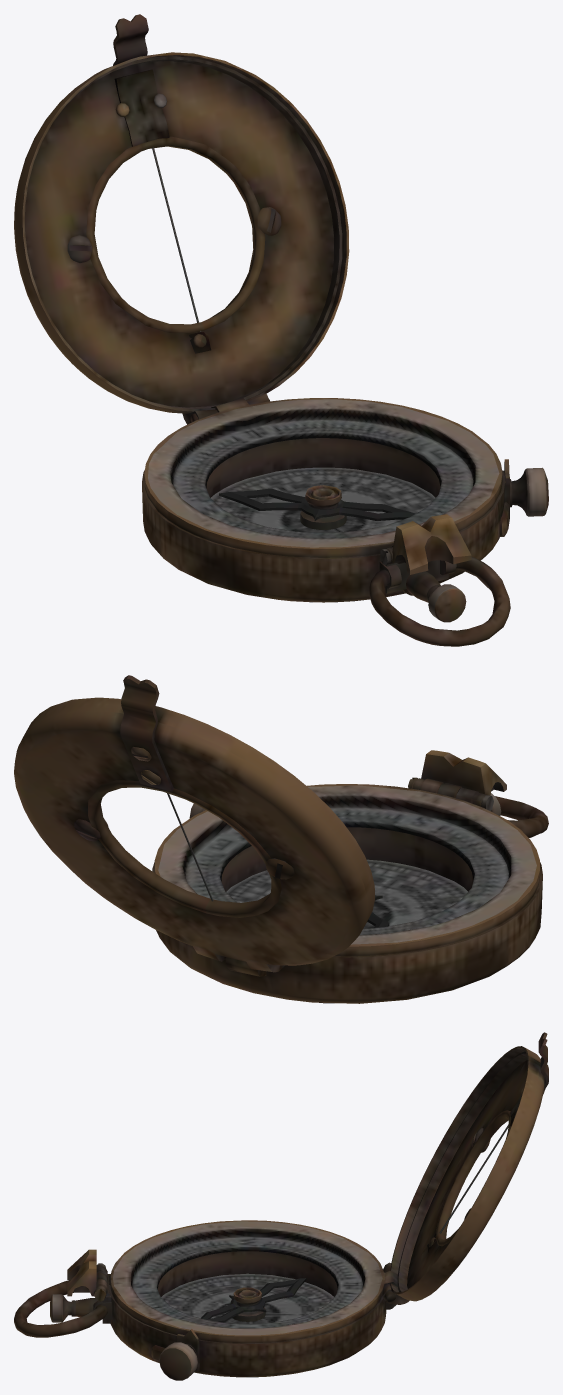
Rendered from compass.glb.
3 views of the same model, one above another, from view 1: azimuth 30°, elevation 25°; view 2: azimuth 150°, elevation 25°; view 3: azimuth 270°, elevation 25° (orthographic). The views are drawn at different scales.
Parts seen in each view (by area): view 1: seadogs_compass_lid, seadogs_compass, seadogs_compass_needle; view 2: seadogs_compass_lid, seadogs_compass; view 3: seadogs_compass, seadogs_compass_lid, seadogs_compass_needle.
Boxes of the visible parts, box(x1,y1,x2,y2) form: seadogs_compass_lid: box(14, 14, 349, 424); seadogs_compass: box(142, 398, 548, 646); seadogs_compass_needle: box(219, 488, 415, 520); seadogs_compass_lid: box(14, 675, 374, 972); seadogs_compass: box(152, 750, 548, 1003); seadogs_compass: box(14, 1220, 397, 1380); seadogs_compass_lid: box(382, 1032, 548, 1304); seadogs_compass_needle: box(201, 1278, 306, 1322).
Size of the model in its own units: 0.0813 by 0.0866 by 0.1441.
Materials: 1 (1 with a texture image).
